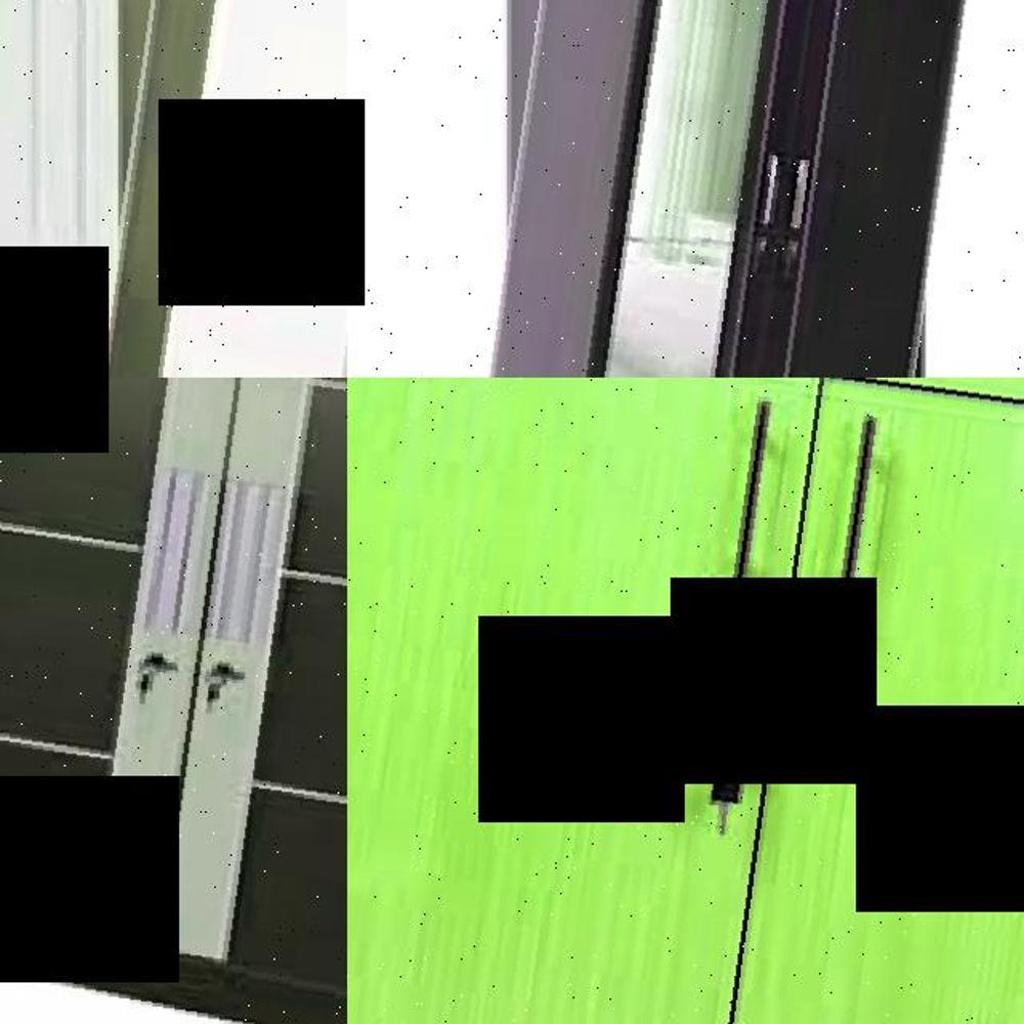cabinet: (347, 378, 1024, 1024), (0, 378, 347, 1024), (472, 0, 958, 378), (83, 0, 347, 378)
